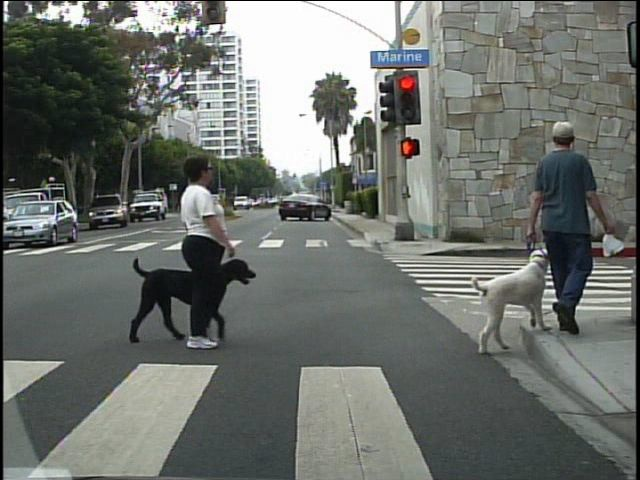person: (528, 112, 620, 347), (156, 144, 251, 348)
